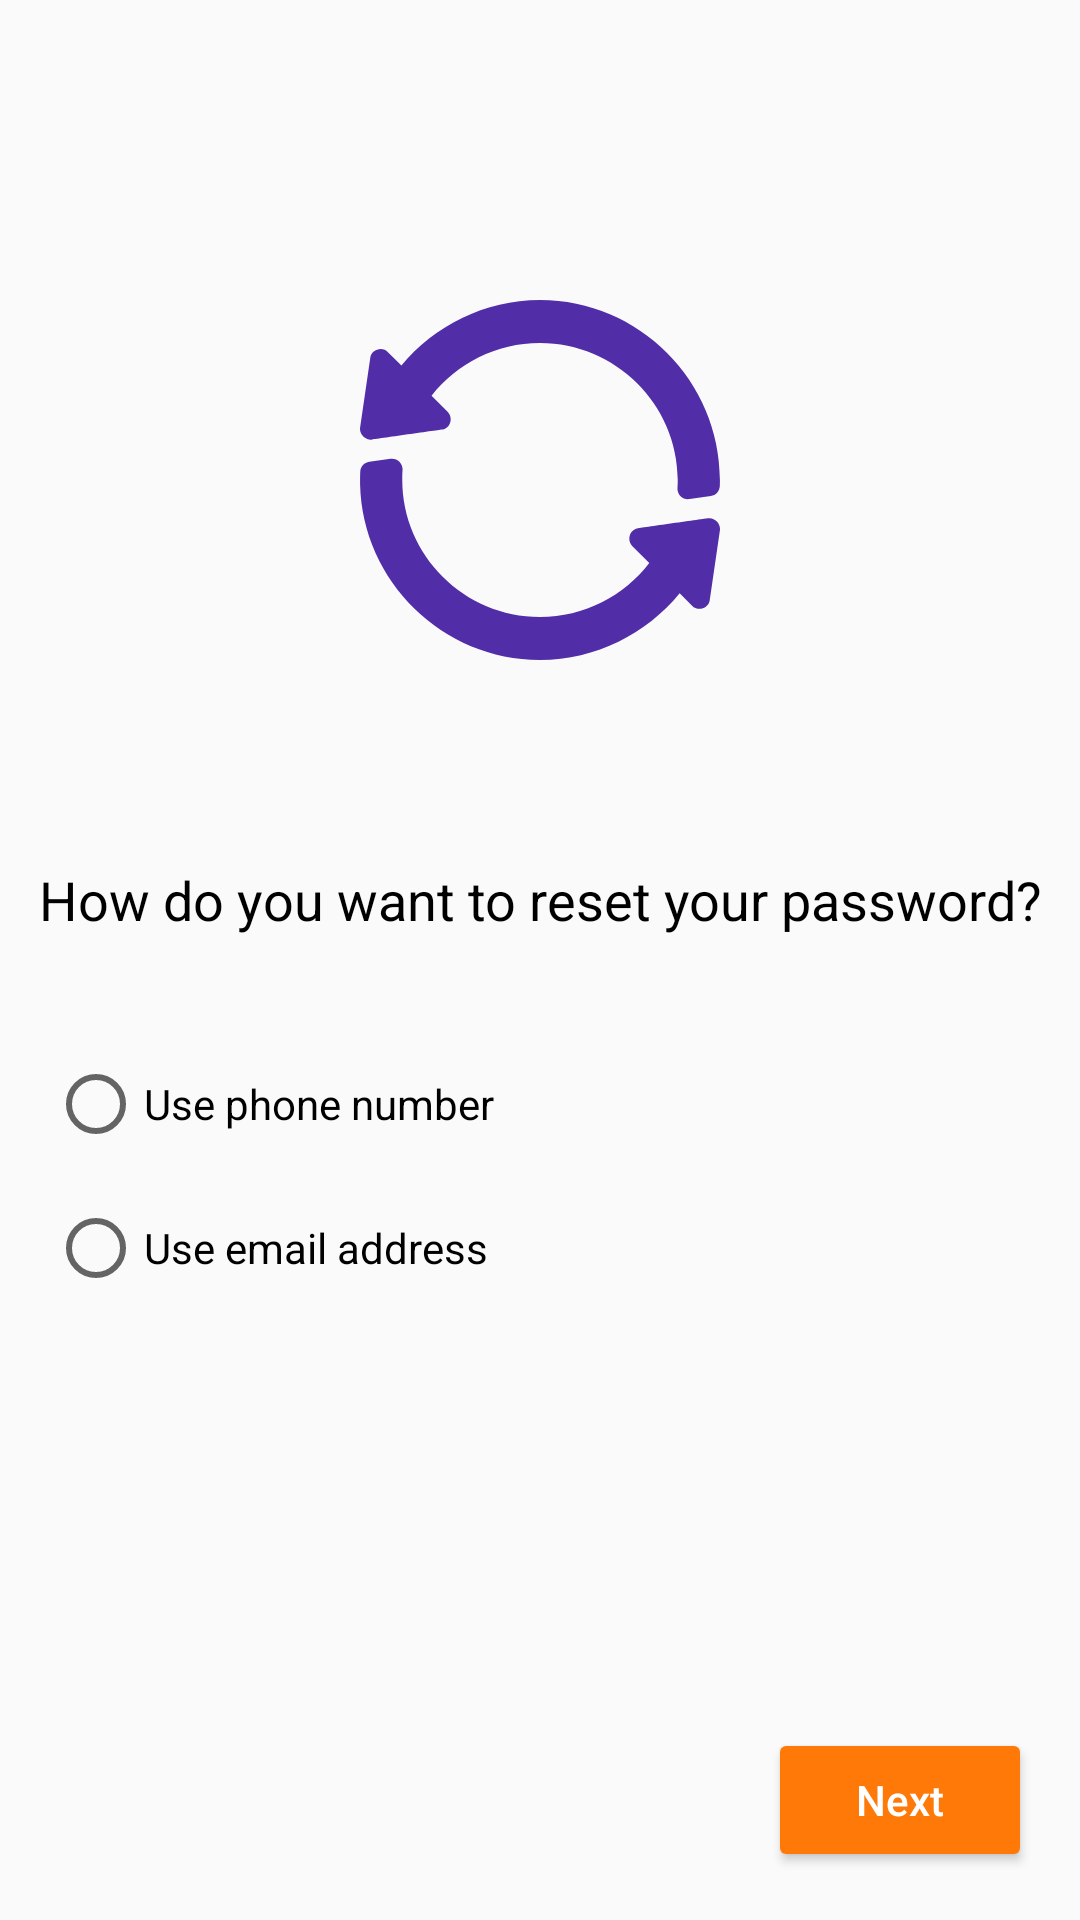

Where to tap for icons on this 1080×1920 app screen, as (x,y):
reset: (540,480)
